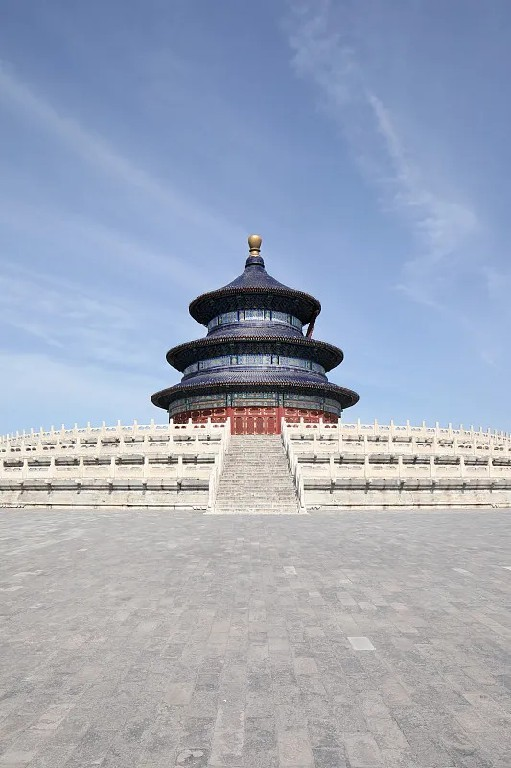Heaven: (151, 236, 361, 434)
